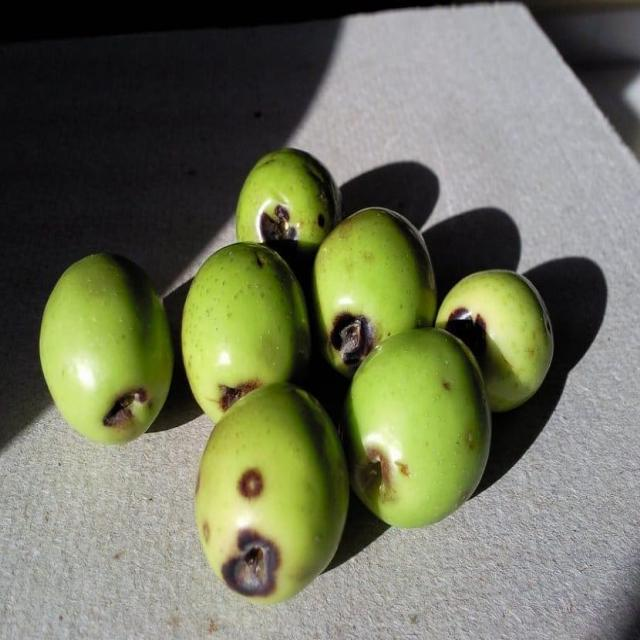Olive Fruit Fly: (196, 383, 349, 602), (345, 329, 490, 526), (39, 254, 173, 443), (181, 242, 311, 420), (314, 207, 436, 376), (435, 270, 553, 412), (236, 148, 341, 269)
